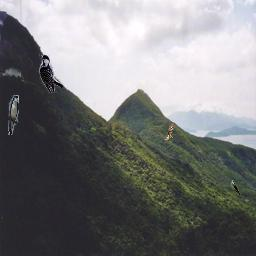Sparrow: (164, 123, 174, 141)
Swallow: (8, 95, 19, 135), (231, 180, 241, 195)
Woodpecker: (38, 53, 63, 93)
